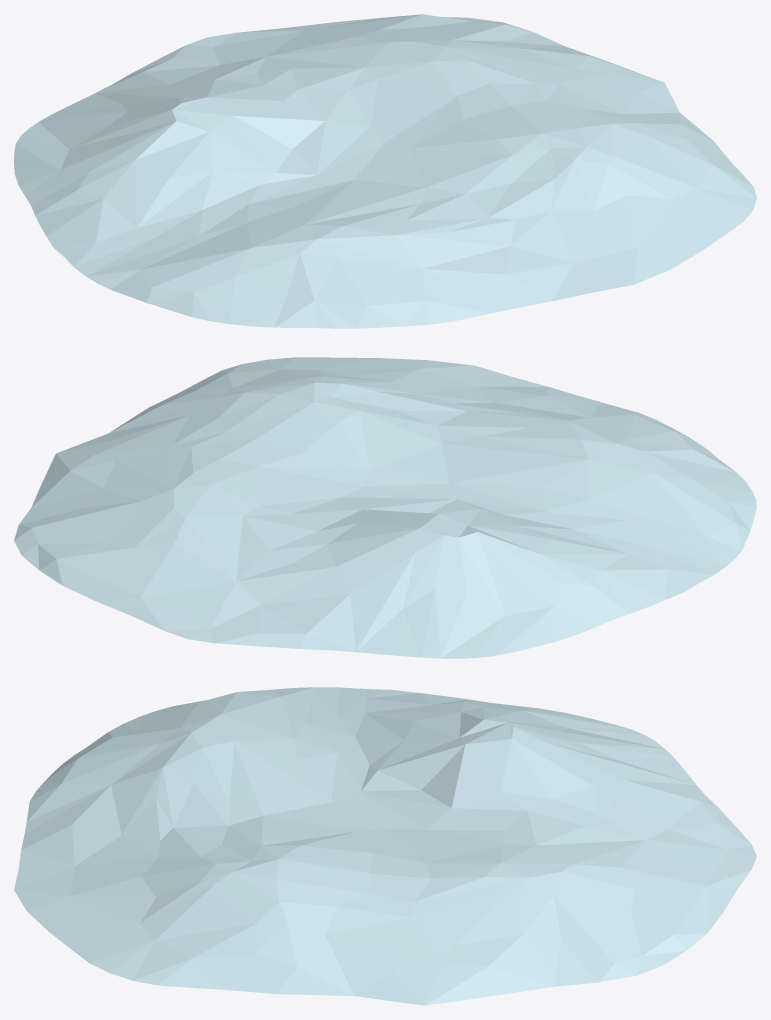
The model's file is SM_Env_DirtMound_04_Snow.fbx.
The picture shows the model from 3 angles, top to bottom: view 1: azimuth 30°, elevation 25°; view 2: azimuth 150°, elevation 25°; view 3: azimuth 270°, elevation 25°; orthographic projection. The views are drawn at different scales.
Visible parts, largest first — view 1: SM_Env_DirtMound_04_Snow; view 2: SM_Env_DirtMound_04_Snow; view 3: SM_Env_DirtMound_04_Snow.
Boxes of the visible parts, x1,y1,x2,y2 form: SM_Env_DirtMound_04_Snow: [14, 14, 756, 328]; SM_Env_DirtMound_04_Snow: [14, 357, 756, 658]; SM_Env_DirtMound_04_Snow: [14, 687, 756, 1005].
Bounding box in the file's own units: 2588 × 219 × 2551.
